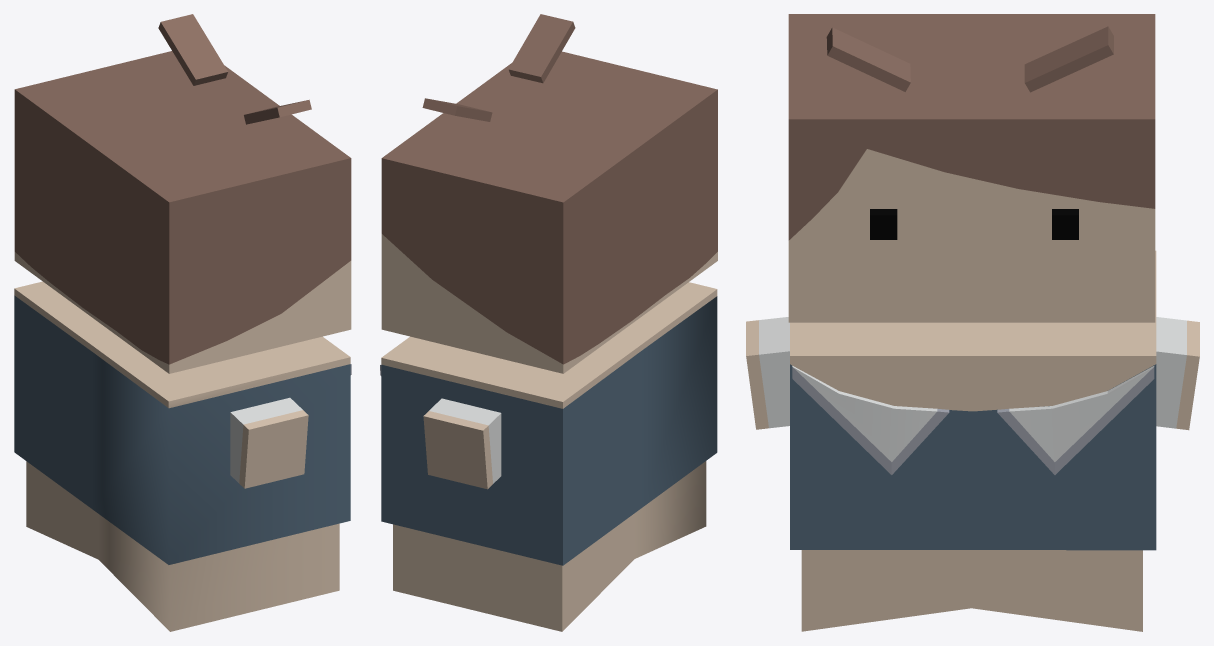
The model's file is RandomGuy.fbx.
3 views of the same model, side by side, from view 1: azimuth 30°, elevation 25°; view 2: azimuth 150°, elevation 25°; view 3: azimuth 270°, elevation 25° (orthographic). The views are drawn at different scales.
Visible parts, largest first — view 1: Head, polySurface72, L_Leg1, L_Arm, R_leg1, R_Eyebrow, L_Eyebrow; view 2: Head, polySurface72, R_leg1, R_Arm, L_Leg1, L_Eyebrow, R_Eyebrow; view 3: Head, polySurface72, L_Leg1, R_leg1, polySurface64, polySurface63, L_Arm, R_Arm, R_Eyebrow, L_Eyebrow, polySurface65, polySurface66.
Part boxes in pixels (x1,y1,x2,y2): Head: [14, 51, 351, 373]; polySurface72: [14, 281, 350, 564]; L_Leg1: [98, 514, 339, 631]; L_Arm: [230, 397, 308, 488]; R_leg1: [26, 461, 98, 559]; R_Eyebrow: [158, 14, 227, 85]; L_Eyebrow: [244, 99, 311, 124]; Head: [381, 51, 717, 373]; polySurface72: [381, 282, 717, 565]; R_leg1: [393, 514, 634, 631]; R_Arm: [423, 398, 501, 489]; L_Leg1: [634, 461, 706, 558]; L_Eyebrow: [508, 14, 575, 83]; R_Eyebrow: [422, 98, 492, 121]; Head: [788, 14, 1155, 322]; polySurface72: [790, 250, 1156, 550]; L_Leg1: [801, 550, 972, 631]; R_leg1: [972, 550, 1142, 631]; polySurface64: [792, 366, 949, 474]; polySurface63: [997, 366, 1154, 474]; L_Arm: [746, 317, 789, 429]; R_Arm: [1156, 317, 1199, 430]; R_Eyebrow: [1024, 26, 1113, 92]; L_Eyebrow: [826, 27, 910, 91]; polySurface65: [870, 209, 897, 239]; polySurface66: [1052, 209, 1078, 239].
Size of the model in its own units: 0.7201 by 1.74 by 1.24.
